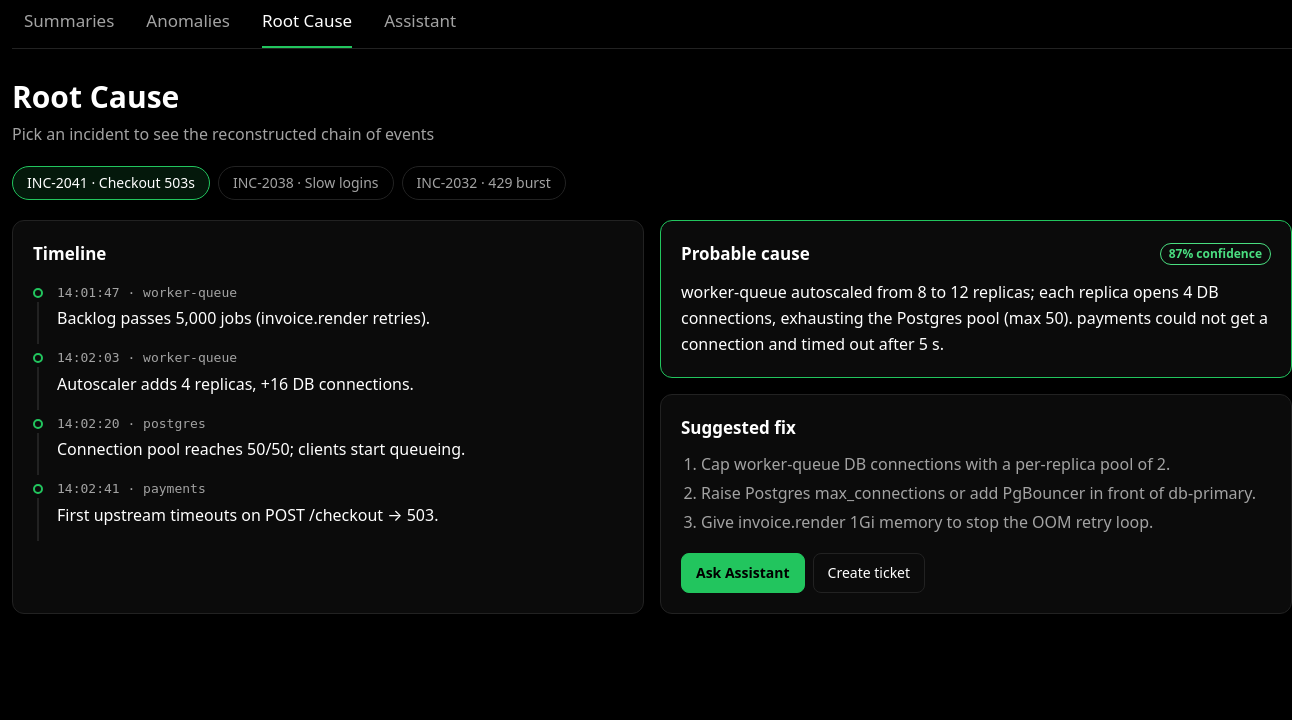
RootCausePage › opens the Assistant with the question already asked
Click the button "Ask Assistant" at (743, 573), box x1=681 y1=553 x2=805 y2=593
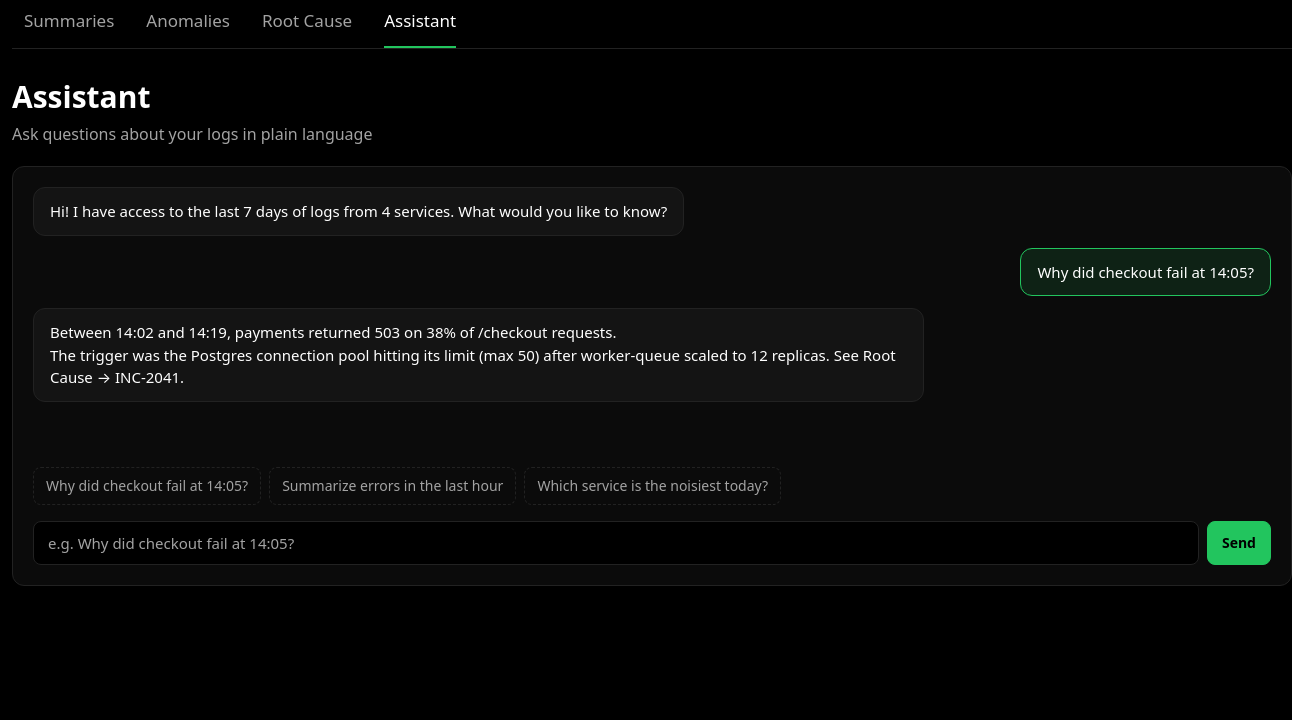
Check: the heading "Assistant" is shown, box x1=12 y1=76 x2=150 y2=116
Check: the text "Why did checkout fail at 14:05?" is shown, box x1=1020 y1=248 x2=1271 y2=296
Check: the text "payments returned 503 on 38%" is shown, box x1=50 y1=322 x2=896 y2=388
